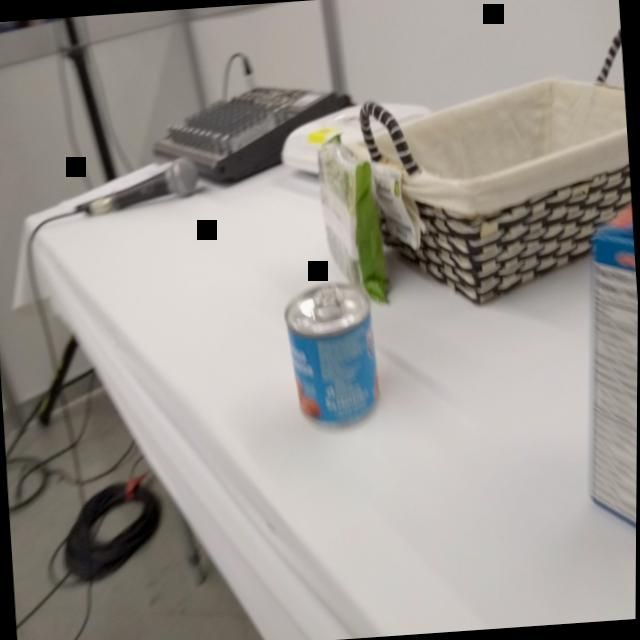basket: (351, 15, 639, 315)
noodles: (309, 137, 399, 317)
sausages: (277, 269, 389, 443)
